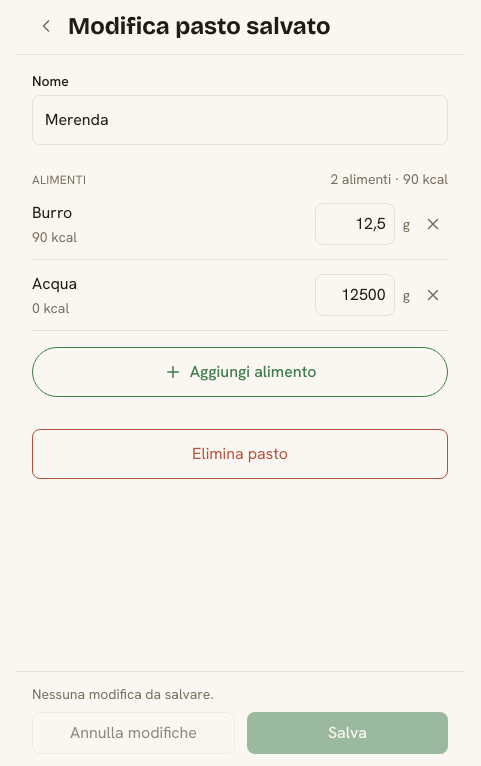
Test: ModificaPastoSalvato, grammi con la virgola › la riga si apre con «12,5»; cambiata, sotto c'è «Prima: 12,5 g»
Expected: the text "Prima:" is not shown
Replace the text in the field showing "12,5" with "20" at (355, 224), box [315,203,395,245]
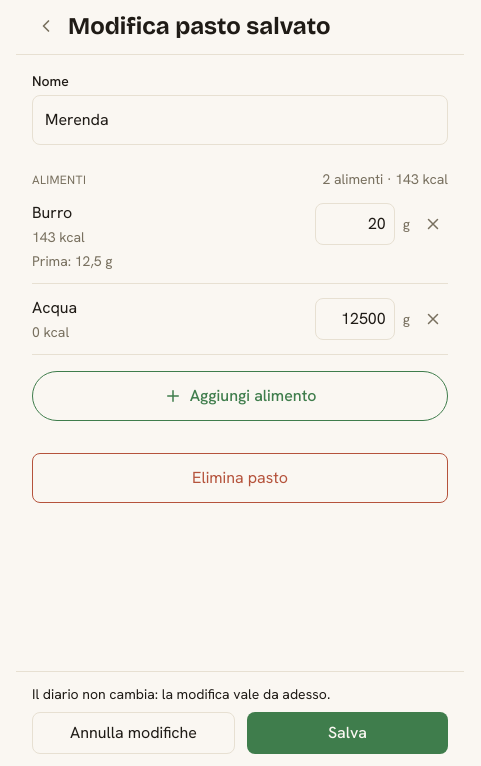
Result: the text "Prima: 12,5 g" is shown at [32,252,112,270]
